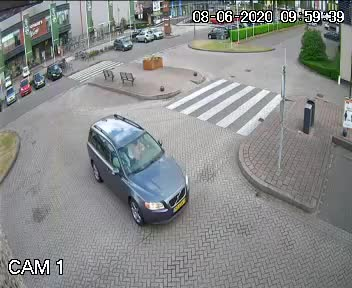car: (67, 107, 220, 240)
